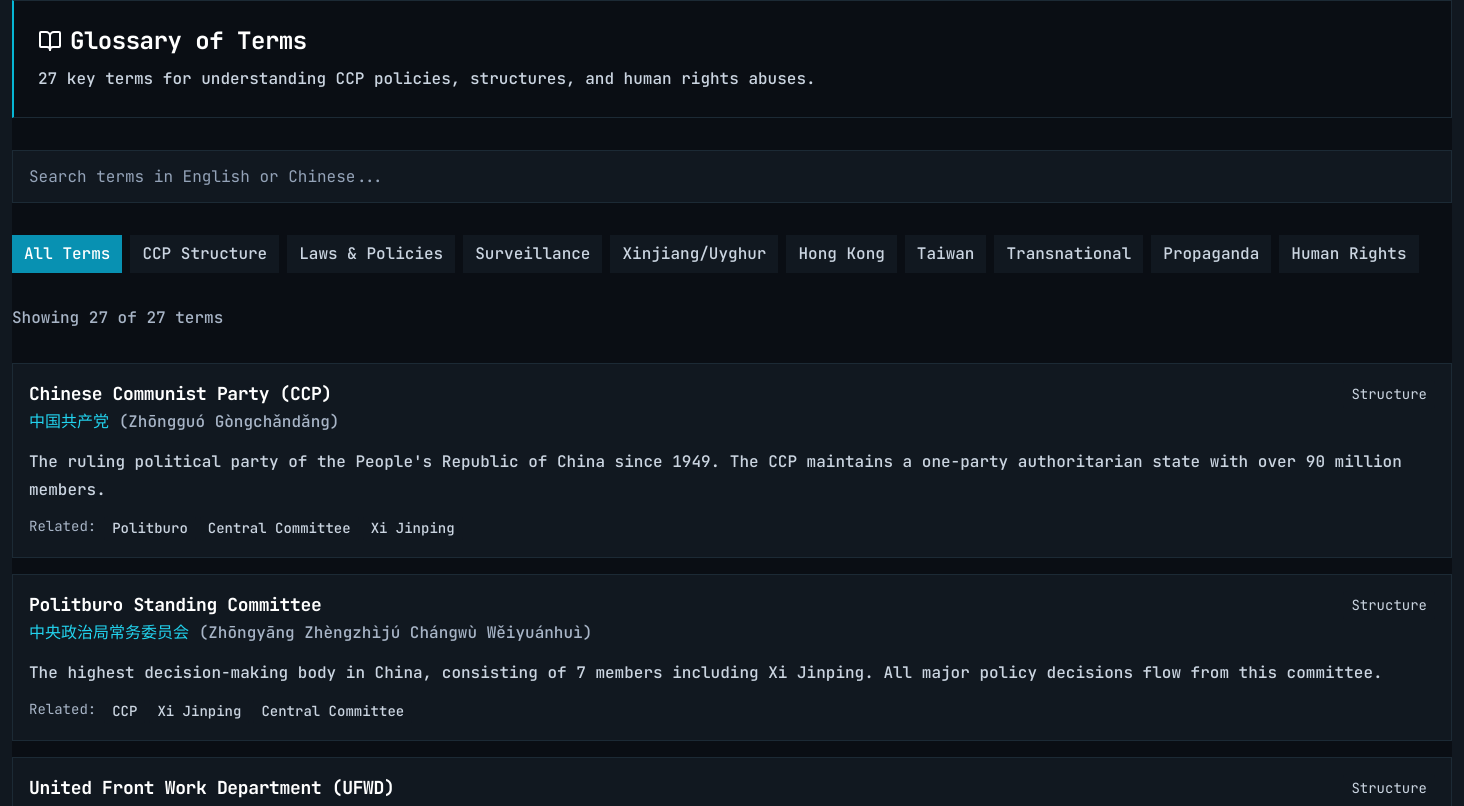
Test: GlossaryTerms › filters by category
Click the button "Laws & Policies".
click(371, 254)  # box 287,235 -> 455,273
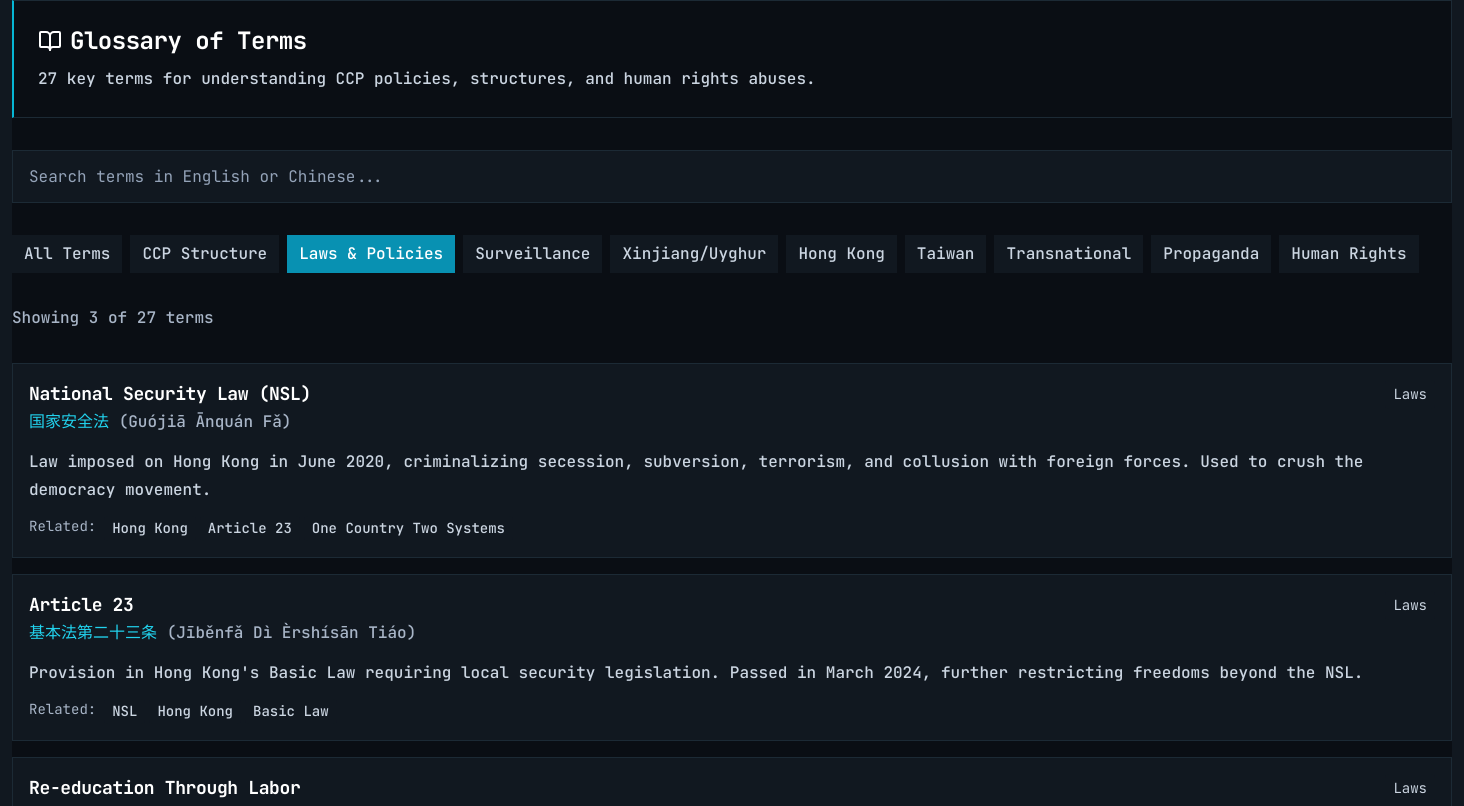
Expected: the heading "National Security Law (NSL)" is shown, 29,380 -> 311,408
